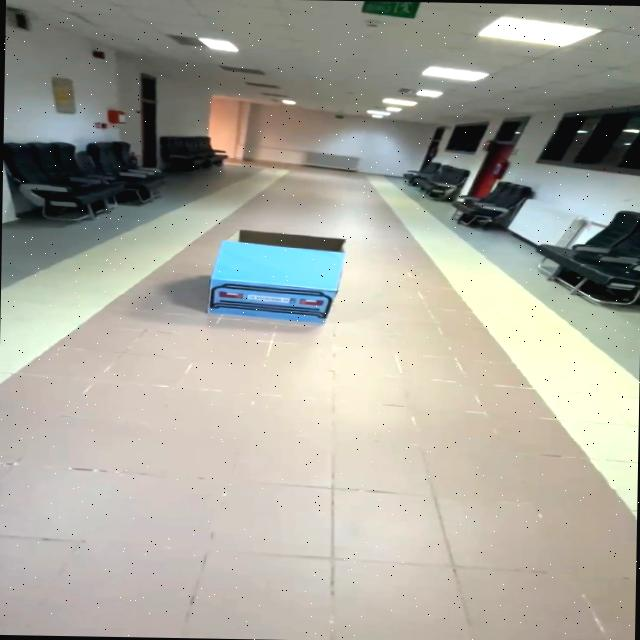blue_car: (179, 217, 372, 341)
